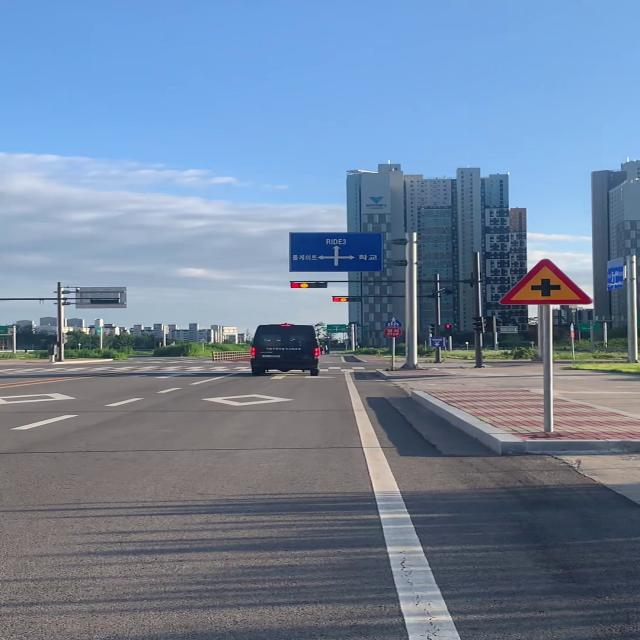yellow_light: (290, 282, 327, 288), (332, 297, 362, 302)
